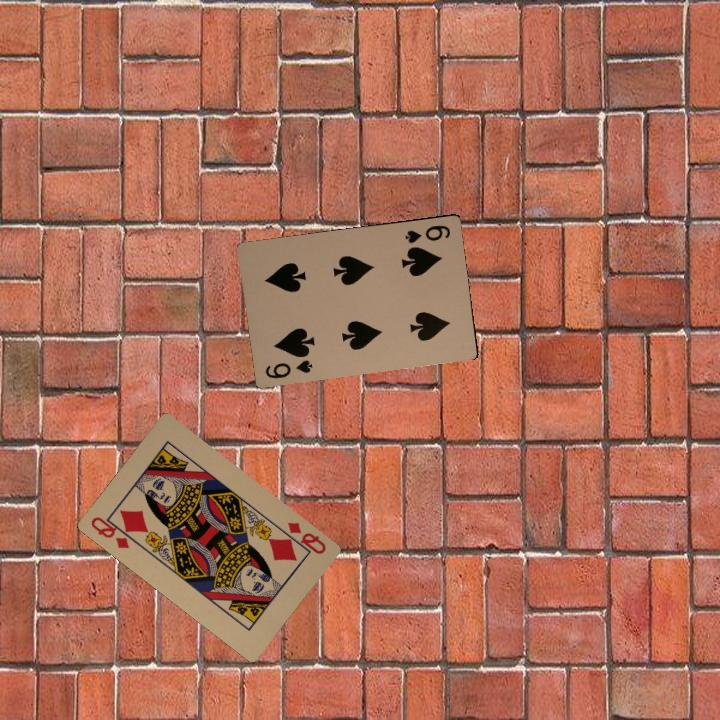6s: (261, 356, 315, 381), (401, 221, 453, 246)
Qd: (87, 511, 140, 552), (278, 518, 329, 557)
